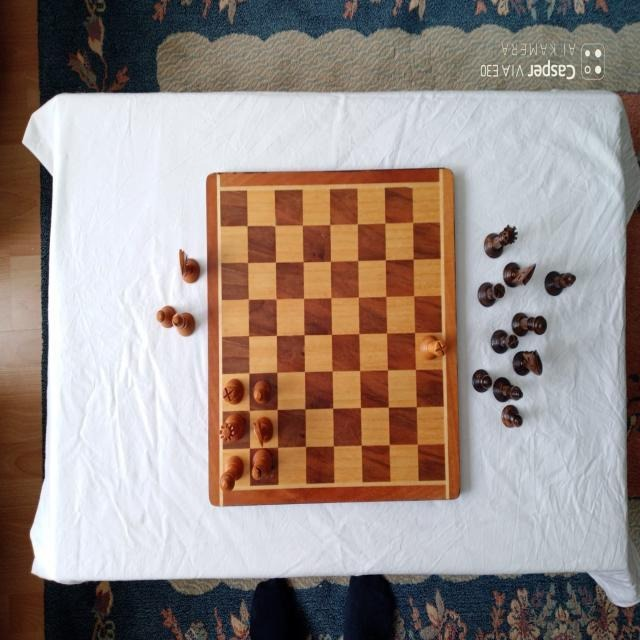black-bishop: (543, 271, 576, 297), (492, 376, 523, 403)
black-king: (512, 312, 548, 336)
black-knight: (503, 260, 537, 287), (512, 350, 544, 377)
black-pawn: (471, 368, 493, 393), (501, 404, 523, 428)
black-queen: (483, 225, 518, 259)
black-rook: (490, 329, 520, 355), (477, 280, 505, 307)
white-bishop: (251, 449, 273, 481), (172, 312, 196, 338)
white-king: (219, 454, 244, 493)
white-knight: (179, 248, 201, 283), (251, 415, 274, 446)
white-pawn: (254, 380, 274, 405), (156, 304, 176, 327)
white-queen: (218, 412, 245, 444)
white-rook: (419, 335, 447, 361), (222, 379, 245, 405)
